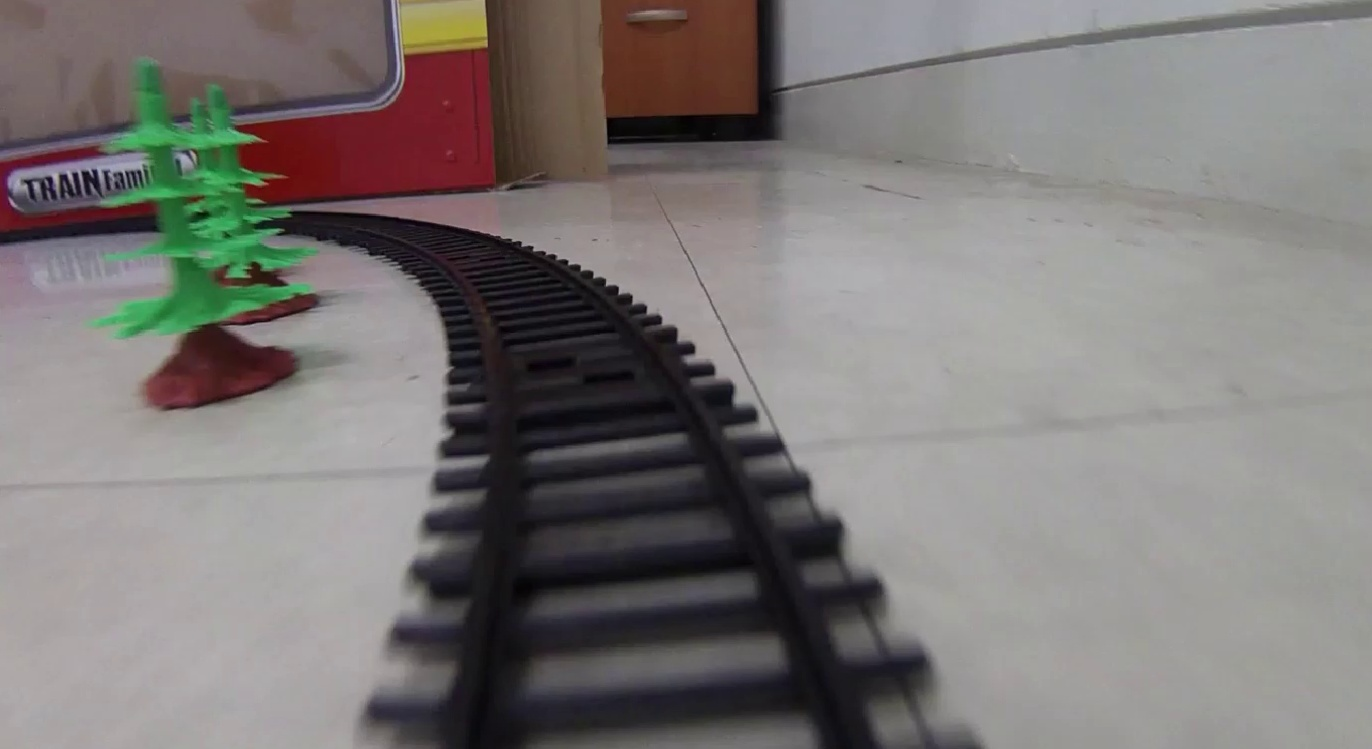tree: (108, 63, 297, 398), (196, 85, 320, 322)
